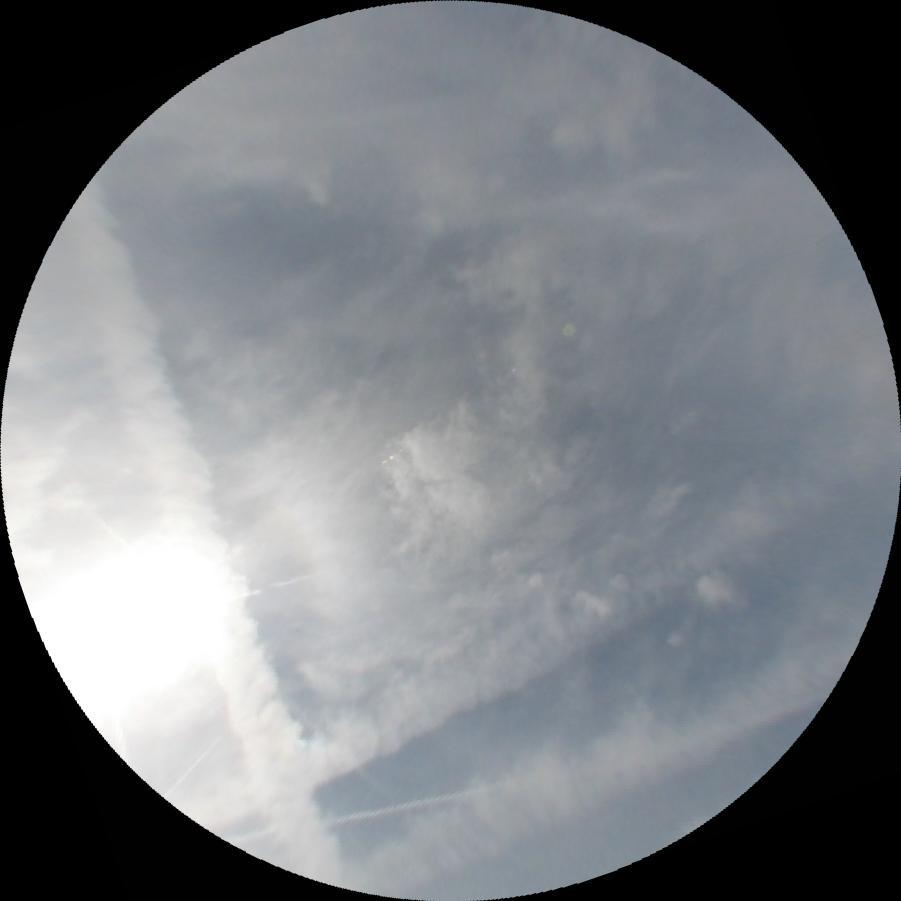contrail old: (226, 693, 832, 855)
contrail young: (161, 734, 223, 798)
parasite: (228, 569, 324, 603)
sun: (20, 513, 255, 727)
